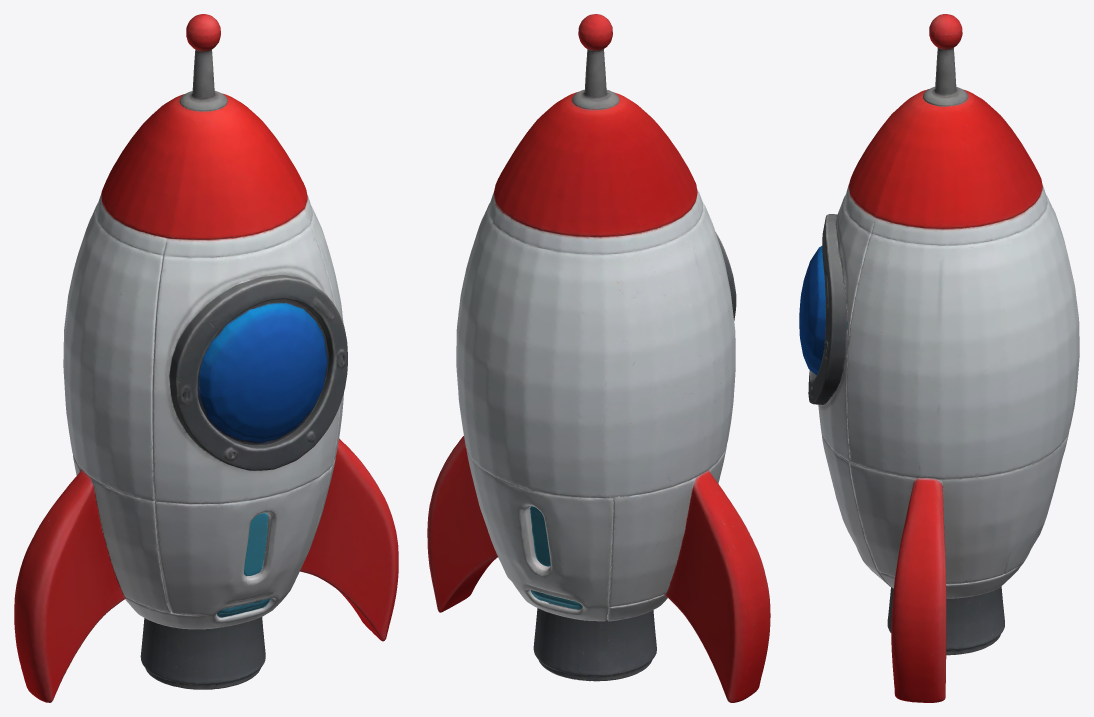
File: rocket.glb
3 views of the same model, side by side, from view 1: azimuth 30°, elevation 25°; view 2: azimuth 150°, elevation 25°; view 3: azimuth 270°, elevation 25° (orthographic). The views are drawn at different scales.
Visible parts, largest first — view 1: world; view 2: world; view 3: world.
Boxes of the visible parts, x1,y1,x2,y2 form: world: (14,14,398,702); world: (427,14,770,702); world: (799,14,1079,702).
Size of the model in its own units: 0.5649 by 1 by 0.4127.
1 material, 1 textured.
